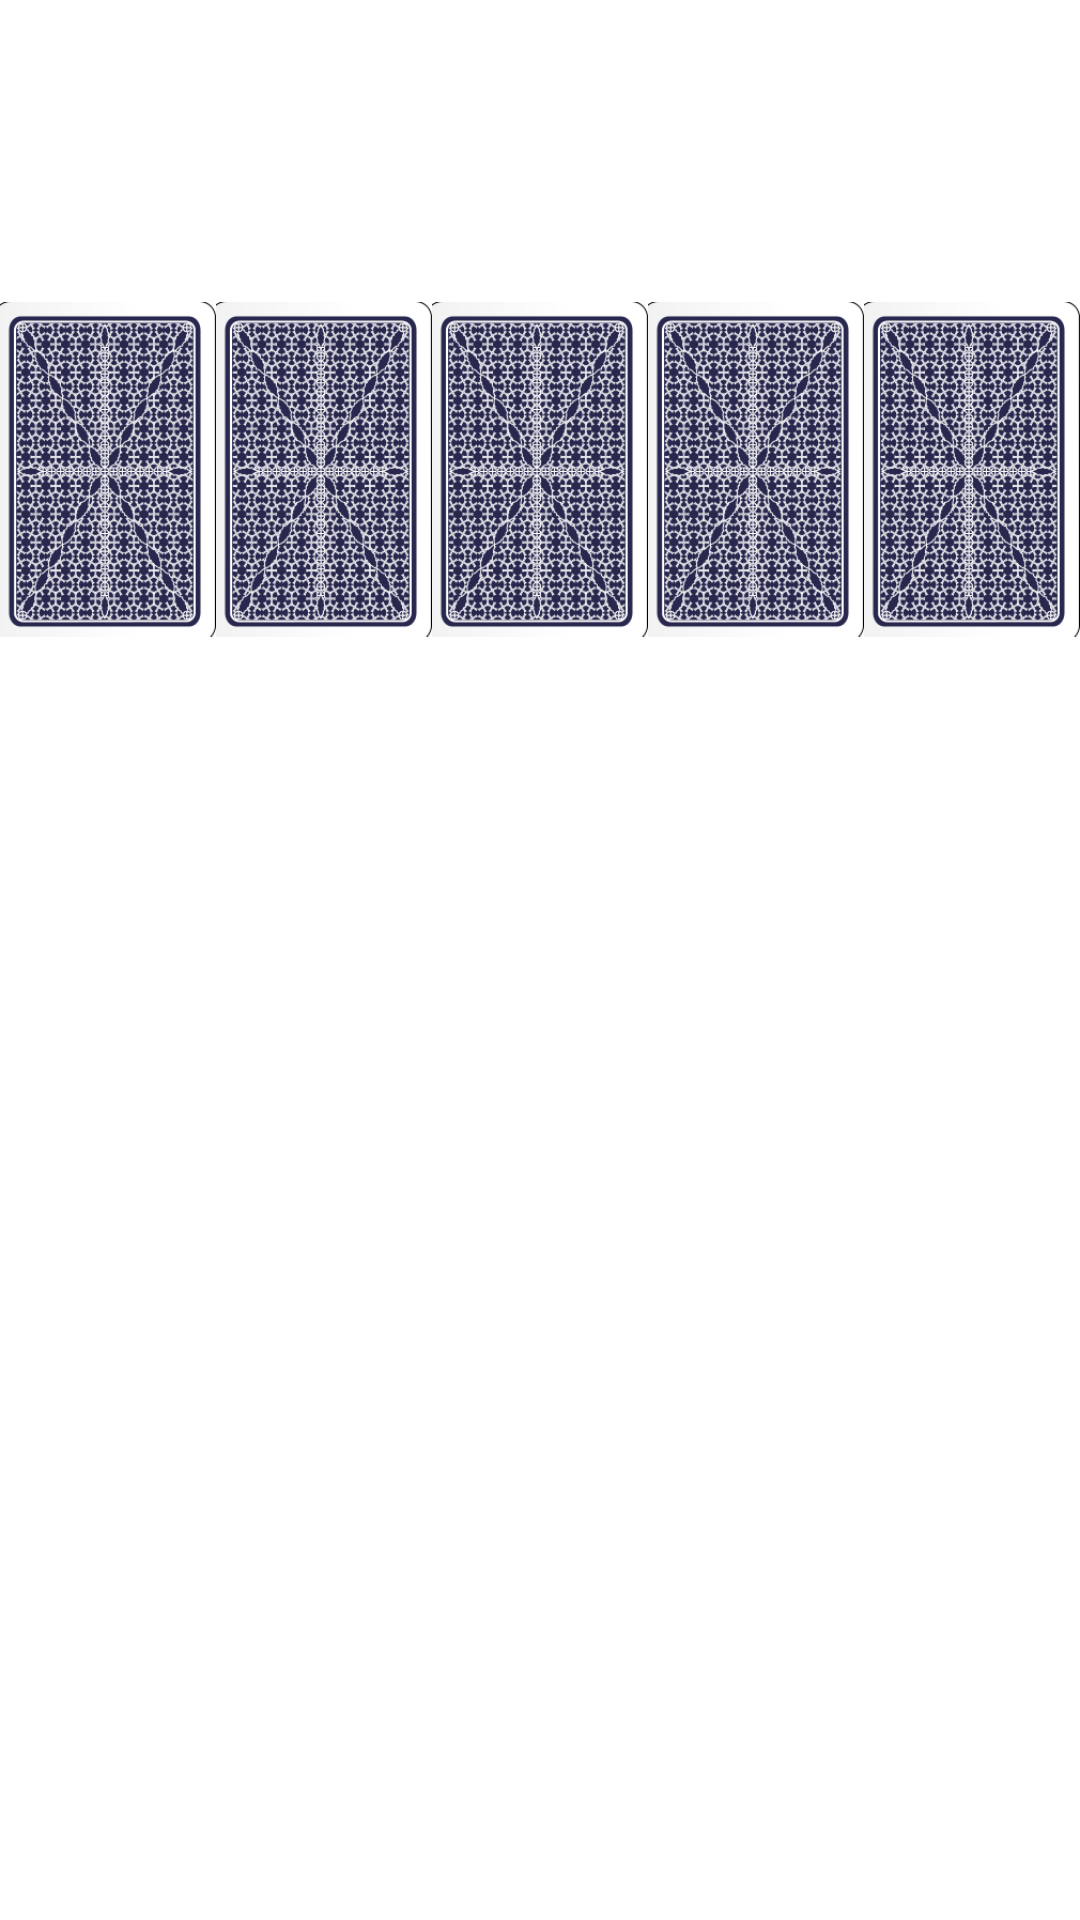

Where to tap for icons on this 1080px×1920px app screen, as (x,y):
backcard: (108,469), (324,469), (540,469), (756,469), (972,469)
